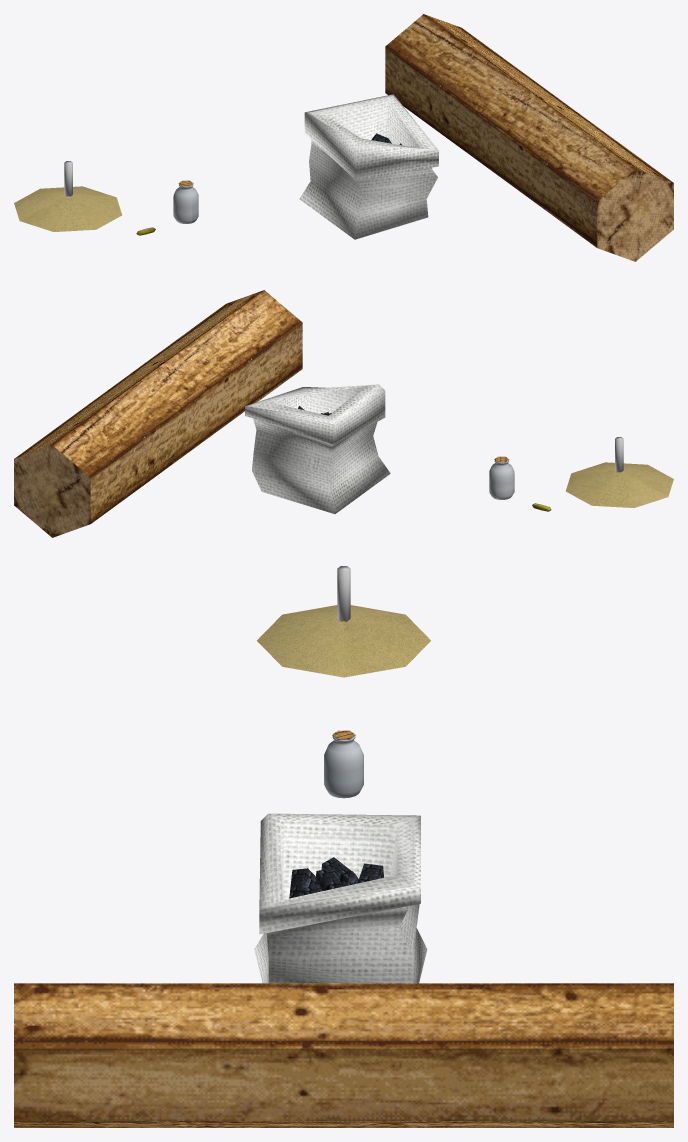
Rendered from props2.fbx.
3 views of the same model, one above another, from view 1: azimuth 30°, elevation 25°; view 2: azimuth 150°, elevation 25°; view 3: azimuth 270°, elevation 25° (orthographic). The views are drawn at different scales.
Visible parts, largest first — view 1: log, bag, Sphere, Circle; view 2: log, bag, Sphere, Circle; view 3: log, bag, Sphere, Circle, charcoal.
Boxes of the visible parts, <box> form: log: <box>385,14,673,261</box>; bag: <box>299,94,438,239</box>; Sphere: <box>14,186,121,231</box>; Circle: <box>173,180,198,223</box>; log: <box>14,290,302,537</box>; bag: <box>245,384,390,513</box>; Sphere: <box>566,462,673,507</box>; Circle: <box>489,456,514,499</box>; log: <box>14,983,673,1127</box>; bag: <box>254,813,427,983</box>; Sphere: <box>257,605,430,677</box>; Circle: <box>324,730,363,798</box>; charcoal: <box>289,857,383,898</box>.
Size of the model in its own units: 266 by 62.23 by 178.
